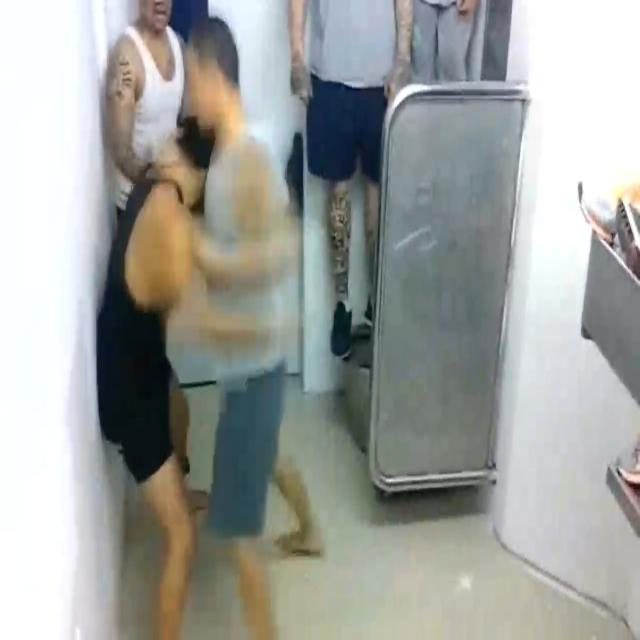fight: (68, 21, 304, 454)
